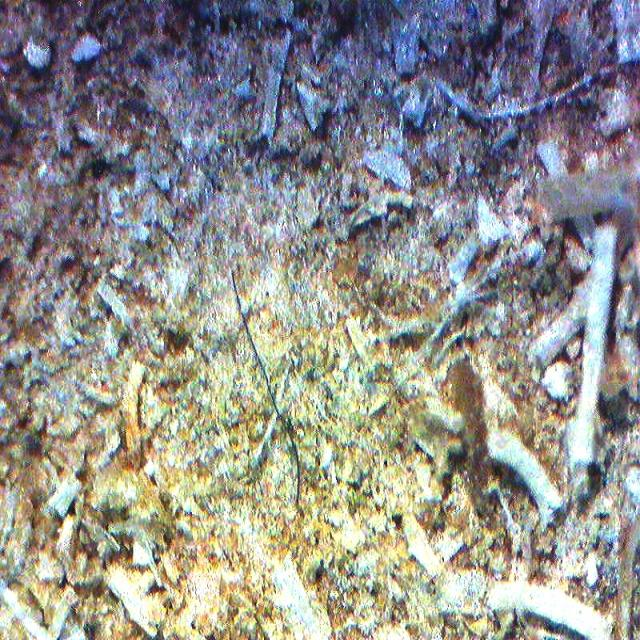microplastic: (231, 270, 299, 504)
